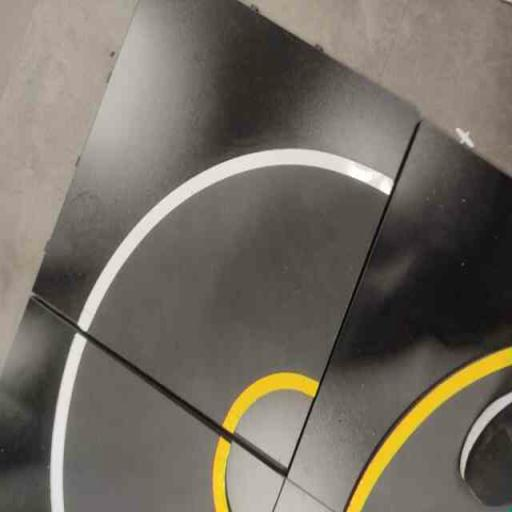left: (69, 47, 395, 476)
